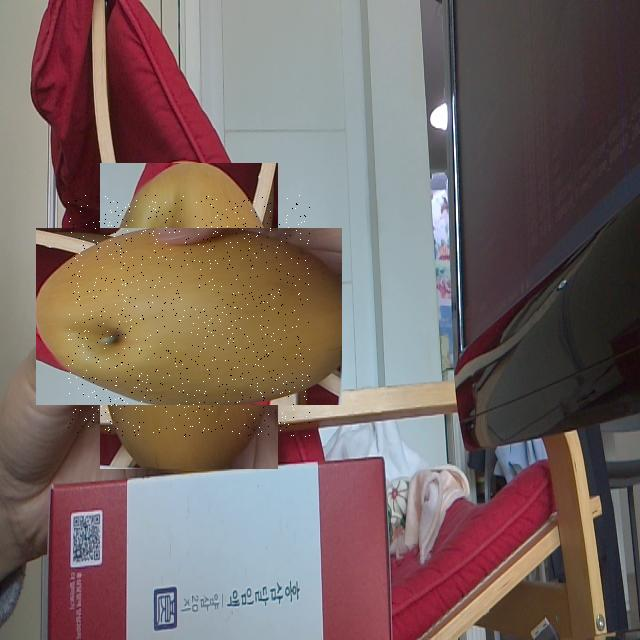pear: (68, 195, 310, 437)
